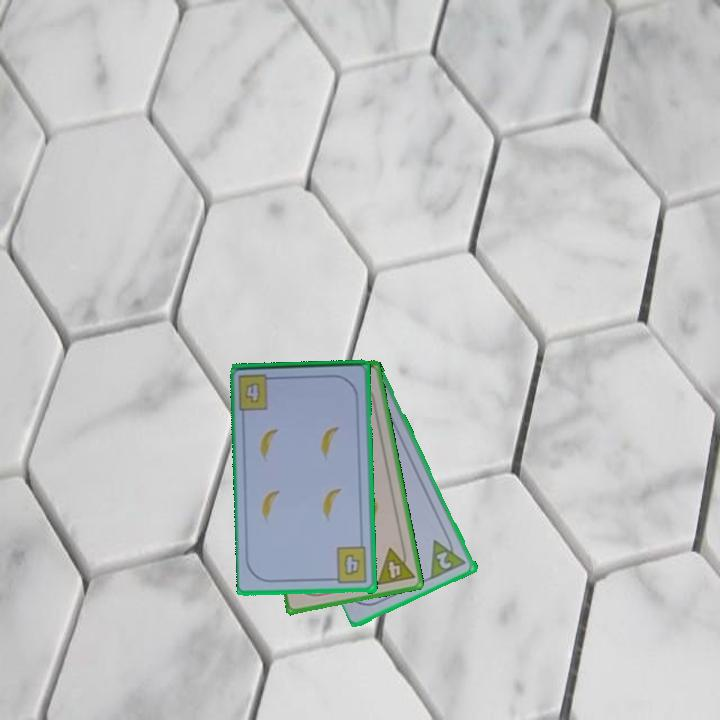2p: (427, 531, 470, 582)
4b: (327, 544, 370, 587), (241, 379, 264, 407)
4p: (373, 542, 417, 588)
